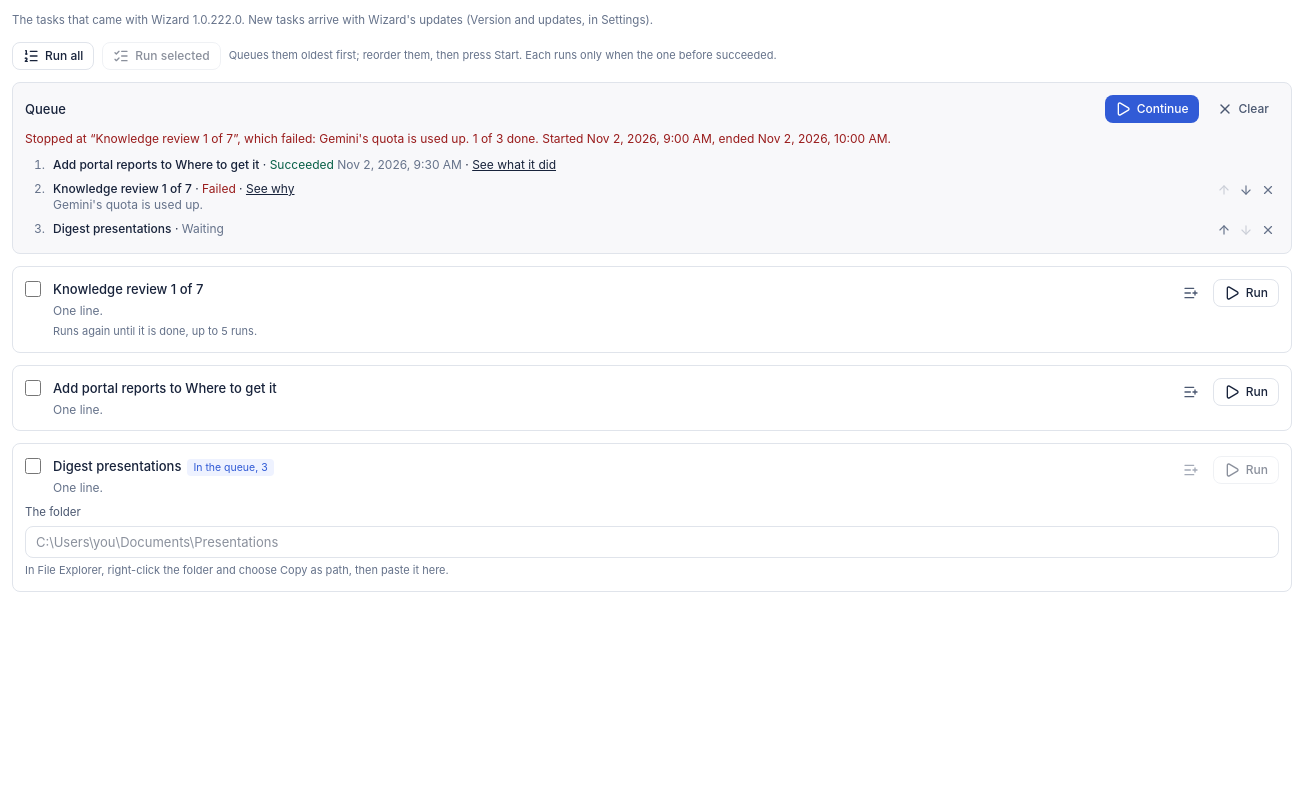
Settings → Tasks: the queue › says where the queue stopped and why, with Continue
The image size is (1292, 812).
expect the element with test id "queue-status" shows "which failed: Gemini's quota is used up. 1 of 3 done.": met, box left=25, top=131, right=891, bottom=146
expect the list item with test id "queued-kb-review-1" shows "Failed": met, box left=202, top=181, right=236, bottom=196
Click the button with test id "queue-continue" at (1152, 109), box left=1105, top=95, right=1199, bottom=123
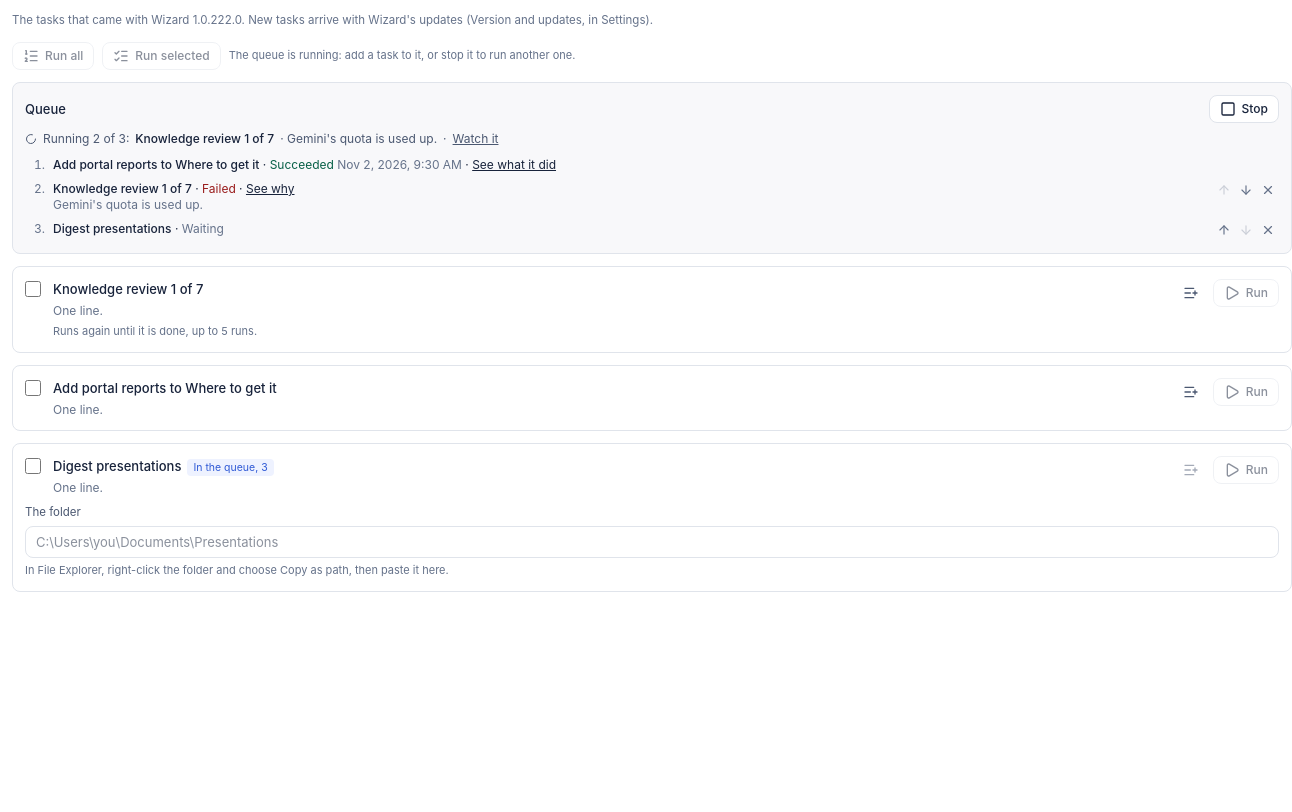
expect the button with test id "queue-continue" is gone: met
expect the button with test id "queue-stop" is shown: met, box left=1209, top=95, right=1279, bottom=123
